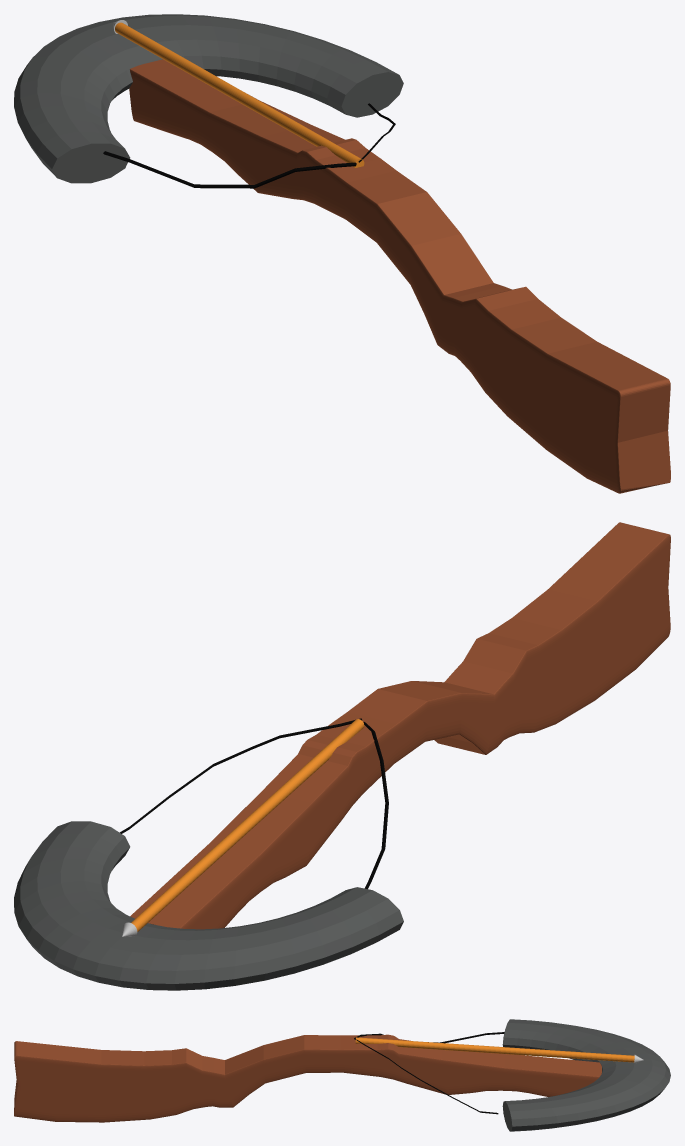
Rendered from CrossbowLoaded.fbx.
3 renders of one model, top to bottom at view 1: azimuth 30°, elevation 25°; view 2: azimuth 150°, elevation 25°; view 3: azimuth 270°, elevation 25°, orthographic. The views are drawn at different scales.
Parts seen in each view (by area): view 1: Crossbow, Torus, DartHandle, Strings; view 2: Crossbow, Torus, DartHandle, Strings; view 3: Crossbow, Torus, DartHandle, Strings.
Part boxes in pixels (x1,y1,x2,y2): Crossbow: (129, 59, 670, 493); Torus: (14, 14, 403, 183); DartHandle: (115, 22, 364, 167); Strings: (103, 103, 395, 188); Crossbow: (130, 522, 670, 929); Torus: (14, 821, 403, 990); DartHandle: (131, 719, 364, 931); Strings: (120, 718, 388, 888); Crossbow: (14, 1034, 601, 1122); Torus: (502, 1019, 670, 1131); DartHandle: (355, 1037, 634, 1062); Strings: (354, 1032, 504, 1114).
Size of the model in its own units: 177 by 62.64 by 479.
